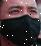with_mask: (1, 2, 41, 46)
